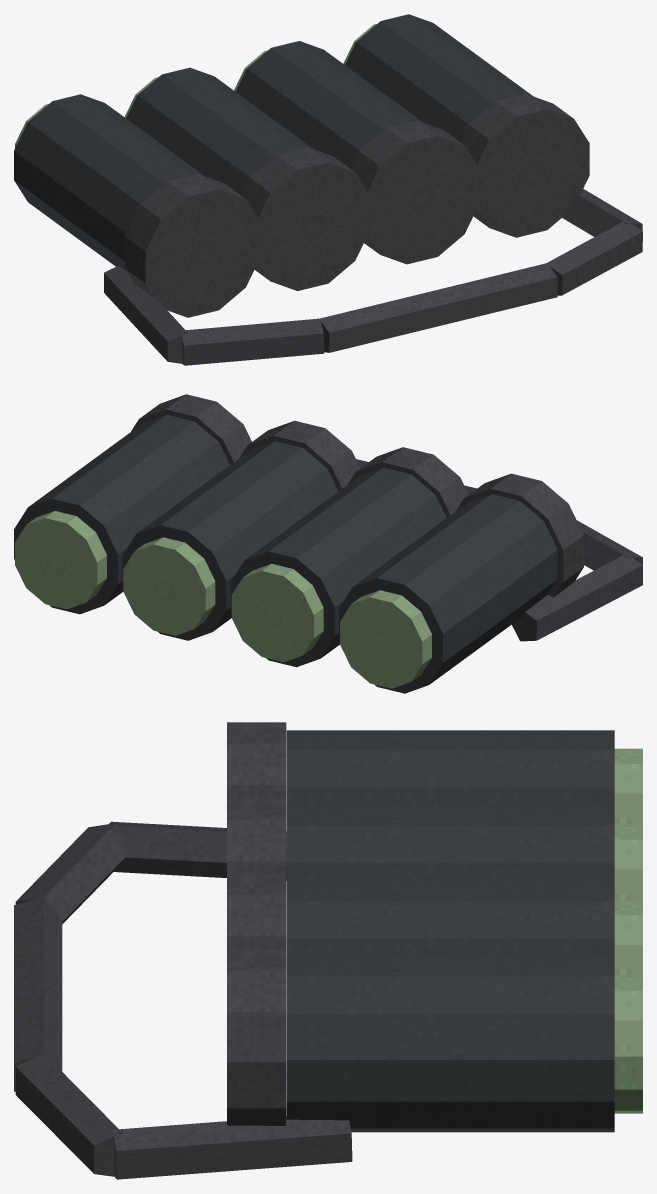
Rendered from advanced_gpnvg.glb.
The picture shows the model from 3 angles, top to bottom: view 1: azimuth 30°, elevation 25°; view 2: azimuth 150°, elevation 25°; view 3: azimuth 270°, elevation 25°; orthographic projection. The views are drawn at different scales.
Parts seen in each view (by area): view 1: block_rubber eyecup (×4), block_night vision tube (×4), block_head strap or temple pieces 2, block_head strap or temple pieces 1, block_head strap or temple pieces 3, block_head strap or temple pieces 0, block_head strap or temple pieces 4; view 2: block_night vision tube (×4), block_front optic (×4), block_rubber eyecup (×4), block_head strap or temple pieces 0, block_head strap or temple pieces 1; view 3: block_night vision tube (×4), block_rubber eyecup (×4), block_head strap or temple pieces 4, block_front optic (×4), block_head strap or temple pieces 2, block_head strap or temple pieces 3, block_head strap or temple pieces 0, block_head strap or temple pieces 1.
Boxes of the visible parts, box(x1,y1,x2,y2) form: block_rubber eyecup (×4): box(124, 94, 589, 317); block_night vision tube (×4): box(14, 14, 532, 270); block_head strap or temple pieces 2: box(319, 263, 557, 352); block_head strap or temple pieces 1: box(180, 318, 324, 365); block_head strap or temple pieces 3: box(545, 220, 642, 295); block_head strap or temple pieces 0: box(104, 265, 187, 363); block_head strap or temple pieces 4: box(562, 189, 642, 236); block_night vision tube (×4): box(14, 415, 557, 693); block_front optic (×4): box(15, 511, 431, 688); block_rubber eyecup (×4): box(131, 394, 583, 597); block_head strap or temple pieces 0: box(512, 553, 642, 641); block_head strap or temple pieces 1: box(577, 520, 642, 570); block_night vision tube (×4): box(286, 730, 614, 1132); block_rubber eyecup (×4): box(227, 722, 286, 1125); block_head strap or temple pieces 4: box(112, 1117, 352, 1179); block_front optic (×4): box(614, 748, 642, 1113); block_head strap or temple pieces 2: box(14, 896, 62, 1091); block_head strap or temple pieces 3: box(15, 1053, 122, 1176); block_head strap or temple pieces 0: box(106, 821, 286, 880); block_head strap or temple pieces 1: box(15, 823, 125, 923).
Bounding box in the file's own units: 0.2936 × 0.0744 × 0.2369.
1 material, 1 textured.
